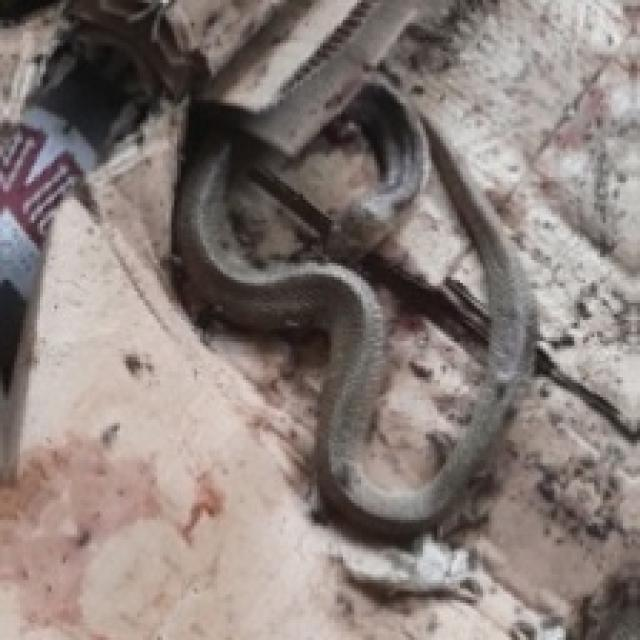philippine cobra: (174, 77, 531, 534)
